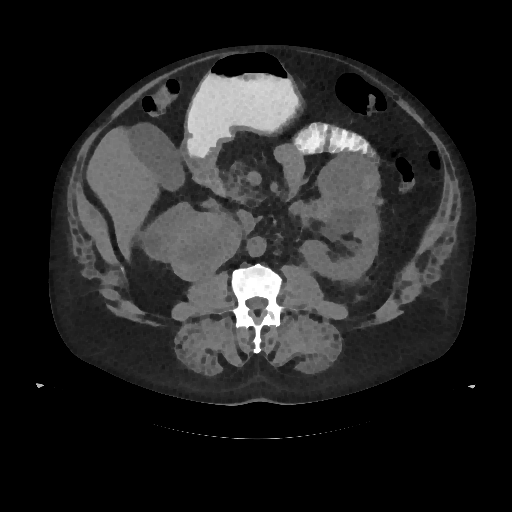Lesion: (171, 215, 243, 283)
